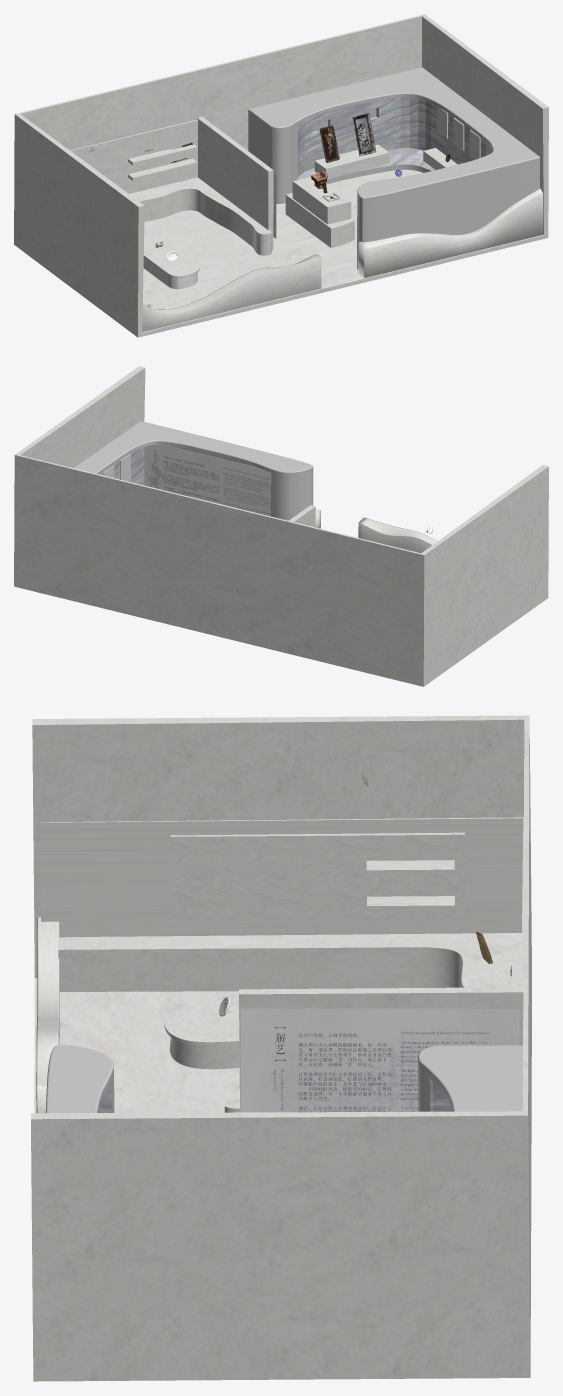
3 renders of one model, top to bottom at view 1: azimuth 30°, elevation 25°; view 2: azimuth 150°, elevation 25°; view 3: azimuth 270°, elevation 25°, orthographic. The views are drawn at different scales.
Parts seen in each view (by area): view 1: 平面, NURBS路径.002, 曲面片.001, 曲面片, 平面.001, NURBS路径.001, 圆环, NURBS路径, 立方体.003, 立方体, 平面.004, Plane002.001 (+2 smaller); view 2: 平面, NURBS路径.002, 微信图片_20260901173300_51_60, 曲面片; view 3: 平面, 平面.001, NURBS路径.001, 平面.002, 解艺, NURBS路径.002, NURBS路径, 曲面片, 立方体.001, 立方体.002.
Boxes of the visible parts, bbox=[...] form: 平面: bbox=[14, 14, 548, 337]; NURBS路径.002: bbox=[248, 67, 539, 270]; 曲面片.001: bbox=[358, 188, 543, 277]; 曲面片: bbox=[142, 254, 321, 331]; 平面.001: bbox=[70, 119, 197, 193]; NURBS路径.001: bbox=[129, 177, 271, 307]; 圆环: bbox=[285, 177, 354, 247]; NURBS路径: bbox=[143, 230, 199, 289]; 立方体.003: bbox=[314, 144, 389, 178]; 立方体: bbox=[128, 144, 197, 180]; 平面.004: bbox=[437, 106, 492, 159]; Plane002.001: bbox=[352, 113, 376, 156]; 平面: bbox=[14, 366, 548, 686]; NURBS路径.002: bbox=[74, 421, 313, 520]; 微信图片_20260901173300_51_60: bbox=[144, 444, 271, 516]; 曲面片: bbox=[358, 517, 437, 553]; 平面: bbox=[31, 715, 531, 1381]; 平面.001: bbox=[40, 817, 523, 987]; NURBS路径.001: bbox=[58, 933, 521, 1112]; 平面.002: bbox=[171, 832, 465, 921]; 解艺: bbox=[241, 1008, 519, 1112]; NURBS路径.002: bbox=[45, 1045, 522, 1113]; NURBS路径: bbox=[164, 1010, 239, 1069]; 曲面片: bbox=[36, 917, 59, 1113]; 立方体.001: bbox=[366, 860, 454, 873]; 立方体.002: bbox=[367, 896, 454, 909].
Bounding box in the file's own units: 15.86 × 4.92 × 8.39.
45 materials, 40 textured.
